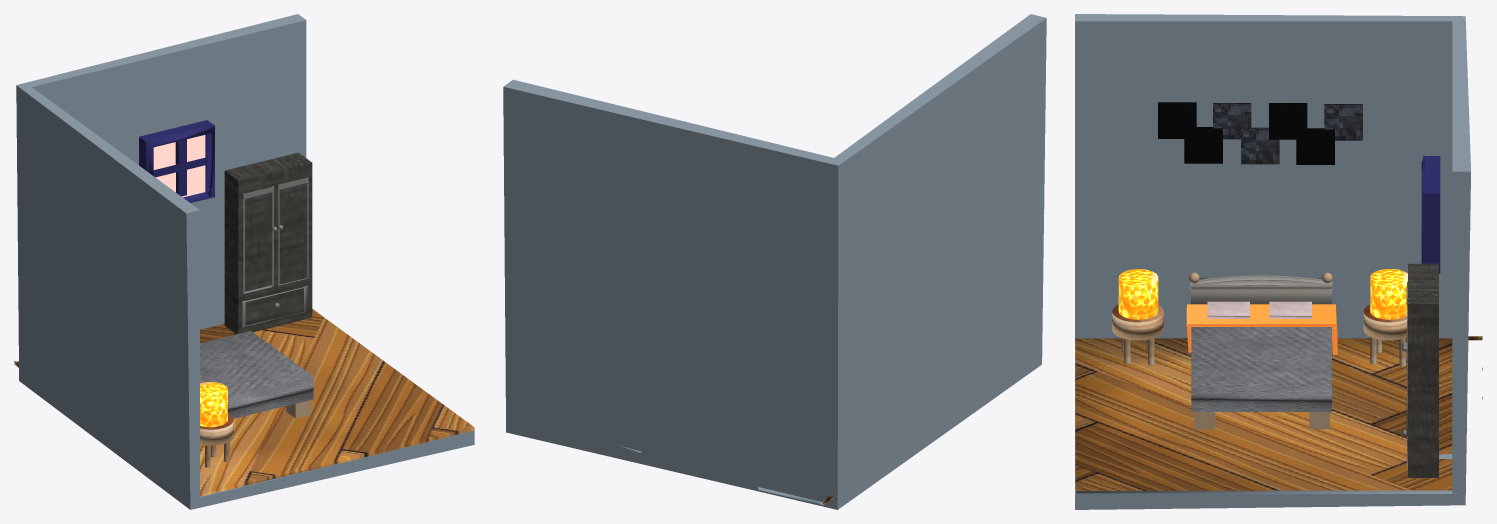
File: myhomeFinalthisOne.glb
The picture shows the model from 3 angles, left to right: view 1: azimuth 30°, elevation 25°; view 2: azimuth 150°, elevation 25°; view 3: azimuth 270°, elevation 25°; orthographic projection. The views are drawn at different scales.
Visible parts, largest first — view 1: Cube.028, Cube.001, Cube.016, Cube.002, Cube.027, Cube.014, Cylinder.005, Cube.015, Cube.013, Cube.017, Cylinder, Cube.018; view 2: Cube.028; view 3: Cube.028, Cube.001, Cube.002, Cube.016, Cube.007, Cube.009, Cube.013, Cylinder.005, Cylinder.011, Cube.020, Cube.025, Cube.024 (+9 smaller).
Boxes of the visible parts, x1,y1,x2,y2 form: Cube.028: [16, 14, 474, 509]; Cube.001: [14, 309, 474, 496]; Cube.016: [224, 152, 312, 334]; Cube.002: [200, 331, 313, 418]; Cube.027: [153, 135, 205, 197]; Cube.014: [139, 124, 214, 201]; Cylinder.005: [200, 382, 227, 427]; Cube.015: [153, 139, 207, 196]; Cube.013: [139, 120, 214, 202]; Cube.017: [243, 186, 273, 293]; Cylinder: [200, 413, 233, 445]; Cube.018: [278, 177, 308, 285]; Cube.028: [503, 14, 1046, 509]; Cube.028: [1075, 14, 1470, 509]; Cube.001: [1075, 336, 1482, 494]; Cube.002: [1191, 327, 1331, 411]; Cube.016: [1408, 263, 1438, 477]; Cube.007: [1191, 278, 1331, 304]; Cube.009: [1187, 304, 1335, 327]; Cube.013: [1423, 156, 1440, 273]; Cylinder.005: [1118, 269, 1158, 319]; Cylinder.011: [1370, 269, 1407, 319]; Cube.020: [1158, 102, 1196, 138]; Cube.025: [1296, 128, 1334, 164]; Cube.024: [1269, 103, 1307, 139].
Bounding box in the file's own units: 7.81 × 7.8 × 8.52.
Materials: 46 (26 with a texture image).
